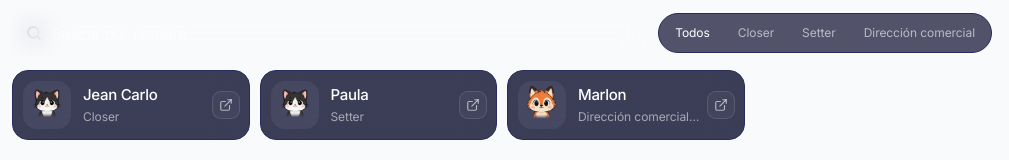
Simular a alguien, en el Portal › se filtra por rol y se busca por nombre, sin importar tildes ni mayúsculas
The width and height of the screenshot is (1009, 160).
Click the button "Closer": (756, 33) top-left (726, 18), bottom-right (786, 48)
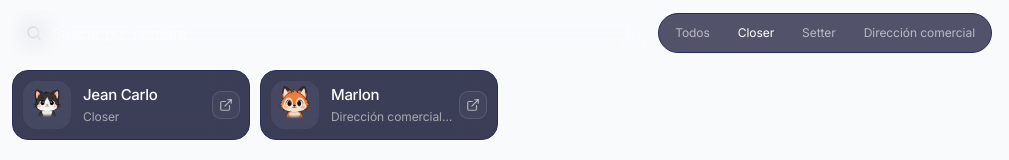
In the search field labelled "Buscar por nombre": (330, 33) top-left (12, 10), bottom-right (648, 56), type "JEAN"
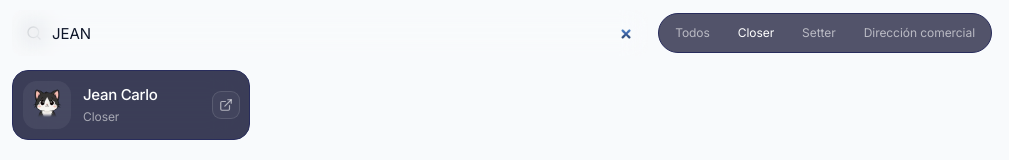
Replace the text in the search field named "Buscar por nombre" with "nadie": (330, 33) top-left (12, 10), bottom-right (648, 56)
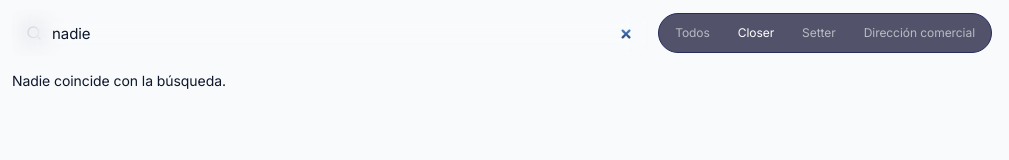
Check: the text "Nadie coincide con la búsqueda." is shown, box top-left (12, 72), bottom-right (226, 89)
